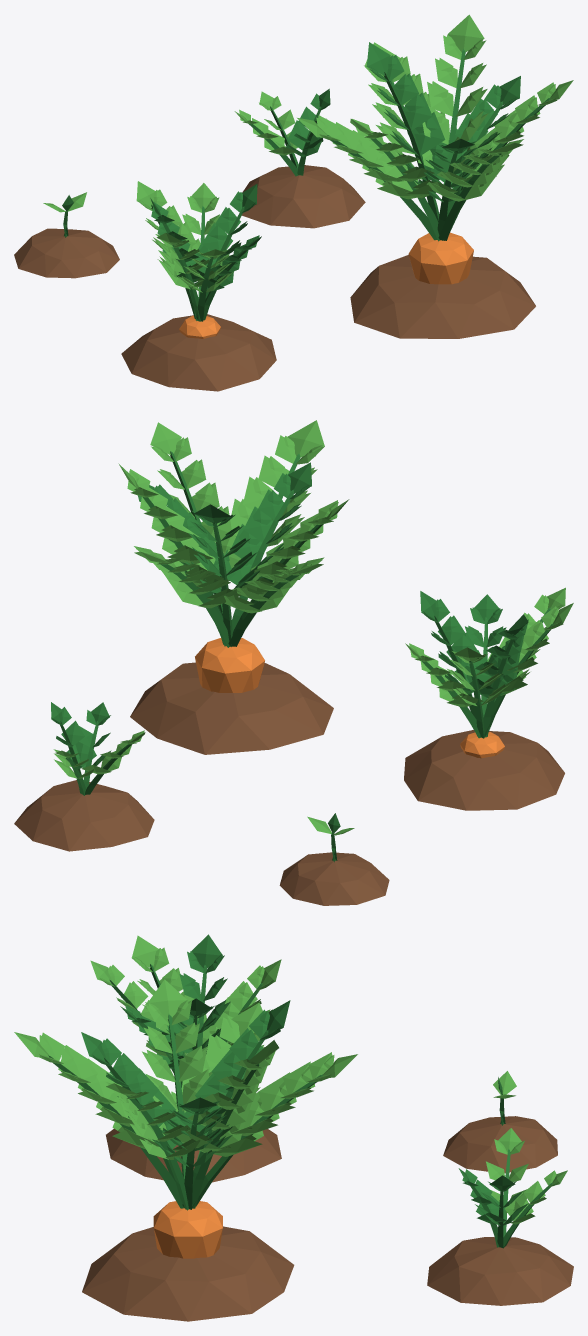
The model's file is carrot-growth-stages.glb.
3 renders of one model, top to bottom at view 1: azimuth 30°, elevation 25°; view 2: azimuth 150°, elevation 25°; view 3: azimuth 270°, elevation 25°, orthographic. The views are drawn at different scales.
Visible parts, largest first — view 1: Carrot_Stage4, Carrot_Stage3, Carrot_Stage2, Carrot_Stage1; view 2: Carrot_Stage4, Carrot_Stage3, Carrot_Stage2, Carrot_Stage1; view 3: Carrot_Stage4, Carrot_Stage2, Carrot_Stage3, Carrot_Stage1.
Boxes of the visible parts, left/top/right/bottom form: Carrot_Stage4: left=297, top=14, right=573, bottom=338; Carrot_Stage3: left=121, top=181, right=276, bottom=391; Carrot_Stage2: left=234, top=88, right=365, bottom=228; Carrot_Stage1: left=14, top=192, right=119, bottom=278; Carrot_Stage4: left=118, top=420, right=349, bottom=754; Carrot_Stage3: left=404, top=587, right=573, bottom=810; Carrot_Stage2: left=14, top=702, right=154, bottom=851; Carrot_Stage1: left=279, top=813, right=389, bottom=905; Carrot_Stage4: left=14, top=979, right=357, bottom=1321; Carrot_Stage2: left=427, top=1128, right=573, bottom=1305; Carrot_Stage3: left=90, top=934, right=281, bottom=1182; Carrot_Stage1: left=443, top=1071, right=557, bottom=1173.
Size of the model in its own units: 7.09 by 4.05 by 7.49.
